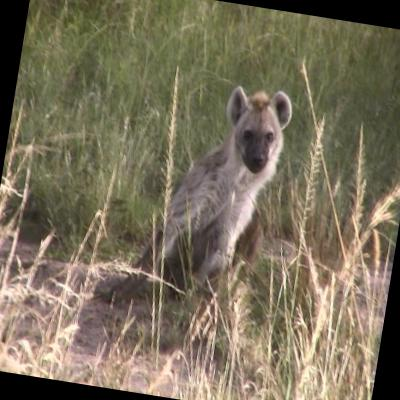hyenas: (91, 52, 327, 344)
